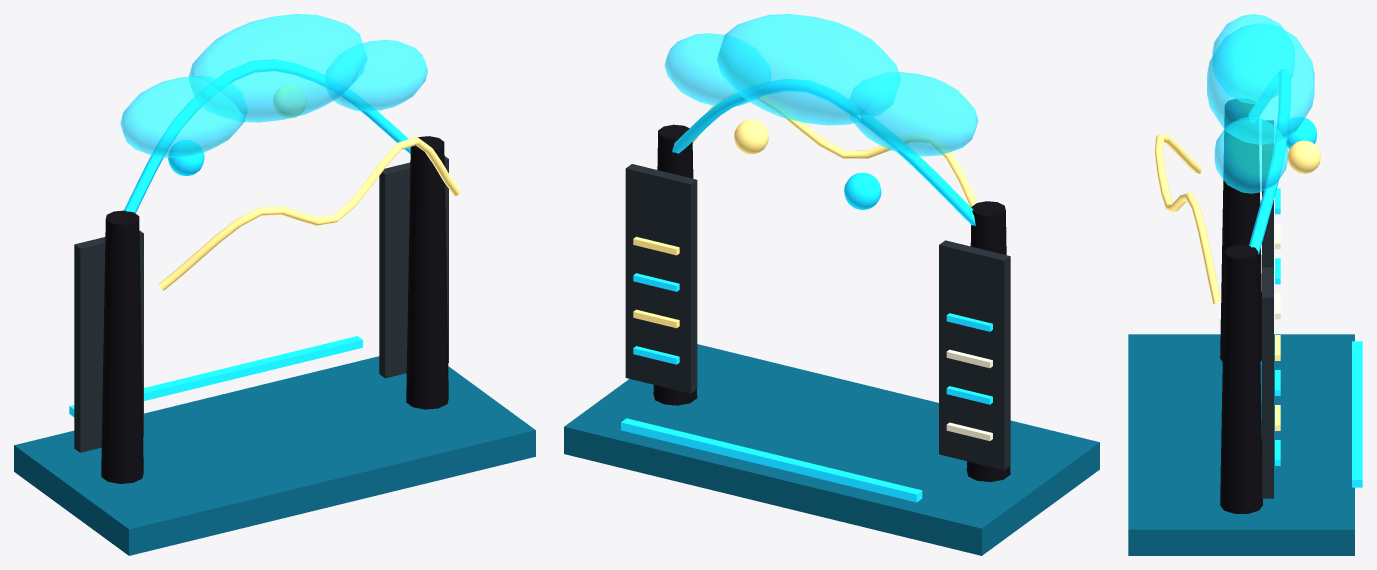
File: cloud-infra-gateway.glb
3 views of the same model, side by side, from view 1: azimuth 30°, elevation 25°; view 2: azimuth 150°, elevation 25°; view 3: azimuth 270°, elevation 25° (orthographic). The views are drawn at different scales.
Parts seen in each view (by area): view 1: network-arch-service-pad, arch-cloud-center, arch-left-server-leg, arch-right-server-leg, arch-cloud-left, arch-left-rack-face, arch-right-rack-face, arch-cloud-right, fiber-arch-primary, fiber-arch-return, dock-direction-strip, arch-routing-node-a (+1 smaller); view 2: network-arch-service-pad, arch-cloud-center, arch-right-rack-face, arch-left-rack-face, arch-cloud-left, arch-cloud-right, fiber-arch-primary, dock-direction-strip, fiber-arch-return, arch-left-server-leg, arch-right-server-leg, arch-routing-node-a (+1 smaller); view 3: network-arch-service-pad, arch-cloud-center, arch-right-server-leg, arch-cloud-left, arch-left-server-leg, arch-cloud-right, arch-right-rack-face, fiber-arch-primary, fiber-arch-return, dock-direction-strip, arch-left-rack-face, arch-routing-node-b (+1 smaller).
Part boxes in pixels (<box>): network-arch-service-pad: <box>14,356,535,555</box>; arch-cloud-center: <box>189,14,367,122</box>; arch-left-server-leg: <box>101,210,143,483</box>; arch-right-server-leg: <box>406,136,448,409</box>; arch-cloud-left: <box>120,76,247,157</box>; arch-left-rack-face: <box>74,230,143,452</box>; arch-right-rack-face: <box>379,156,448,378</box>; arch-cloud-right: <box>324,40,427,111</box>; fiber-arch-primary: <box>124,59,410,213</box>; fiber-arch-return: <box>159,136,460,290</box>; dock-direction-strip: <box>69,336,362,416</box>; arch-routing-node-a: <box>168,140,204,176</box>; network-arch-service-pad: <box>564,344,1099,555</box>; arch-cloud-center: <box>717,14,900,125</box>; arch-right-rack-face: <box>625,164,697,393</box>; arch-left-rack-face: <box>939,240,1010,470</box>; arch-cloud-left: <box>850,72,978,156</box>; arch-cloud-right: <box>664,33,770,106</box>; fiber-arch-primary: <box>672,79,975,225</box>; dock-direction-strip: <box>621,418,922,502</box>; fiber-arch-return: <box>692,91,977,206</box>; arch-left-server-leg: <box>966,201,1010,481</box>; arch-right-server-leg: <box>653,124,697,405</box>; arch-routing-node-a: <box>844,172,881,209</box>; network-arch-service-pad: <box>1128,334,1354,555</box>; arch-cloud-center: <box>1207,23,1314,144</box>; arch-right-server-leg: <box>1220,245,1262,513</box>; arch-cloud-left: <box>1212,14,1294,103</box>; arch-left-server-leg: <box>1220,99,1261,361</box>; arch-cloud-right: <box>1214,117,1287,193</box>; arch-right-rack-face: <box>1262,267,1273,498</box>; fiber-arch-primary: <box>1248,69,1290,254</box>; fiber-arch-return: <box>1154,134,1221,304</box>; dock-direction-strip: <box>1352,341,1362,487</box>; arch-left-rack-face: <box>1262,120,1273,267</box>; arch-routing-node-b: <box>1288,140,1320,173</box>.
Bounding box in the file's own units: 1.92 × 1.95 × 0.9725.
